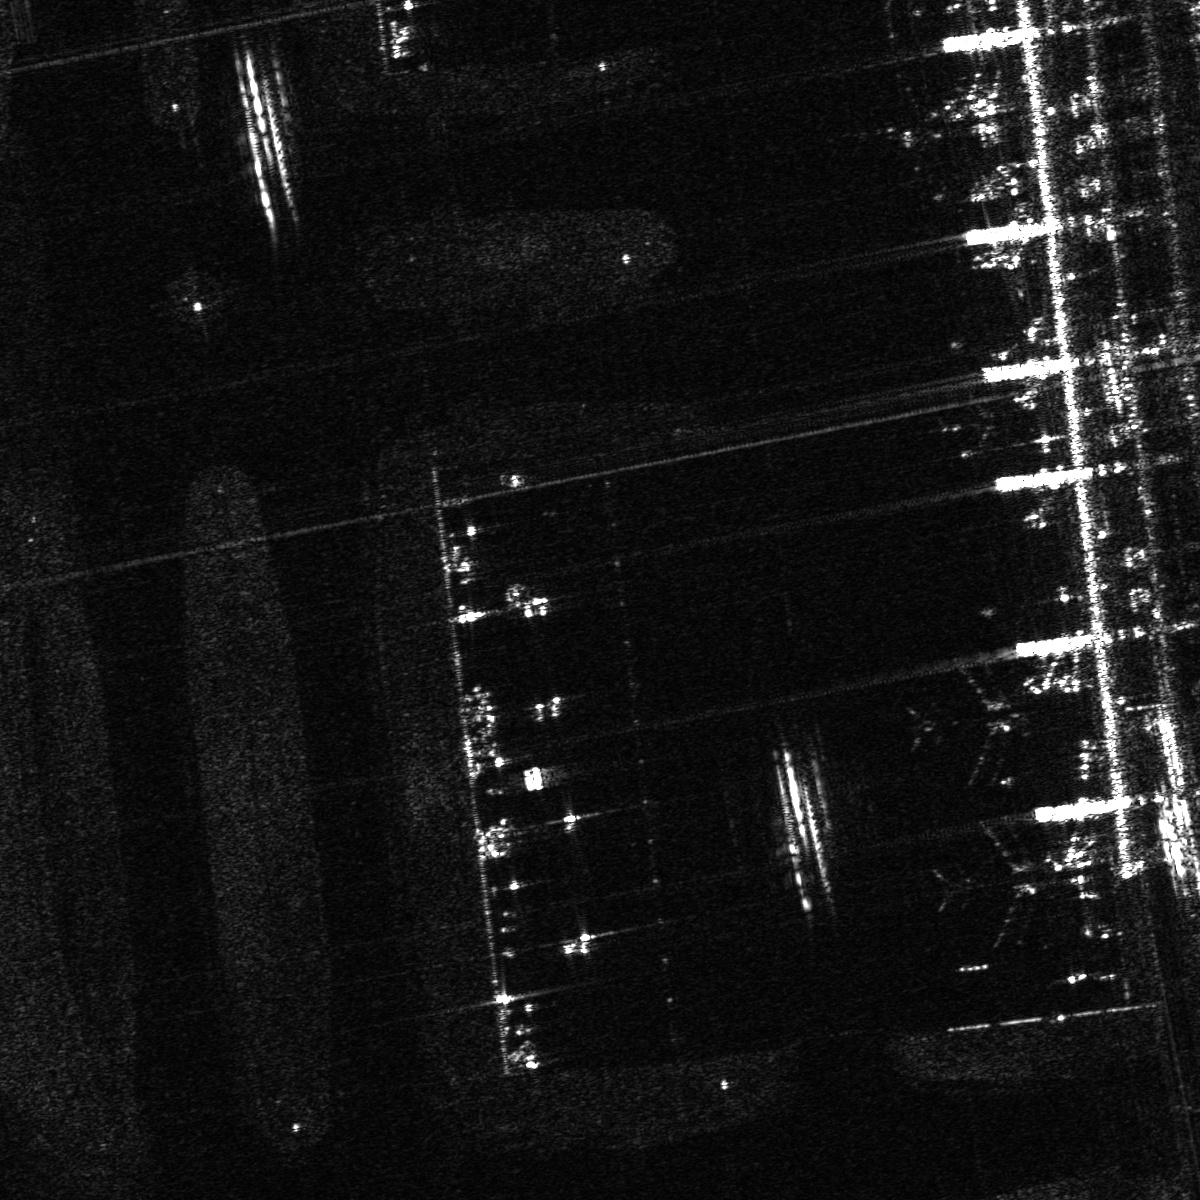A220: (932, 385, 1019, 463)
A330: (938, 821, 1057, 952)
Boeing787: (907, 664, 1027, 790)
other: (827, 62, 955, 195)
